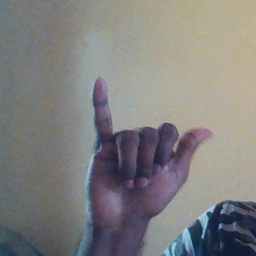J: (86, 76, 213, 228)
